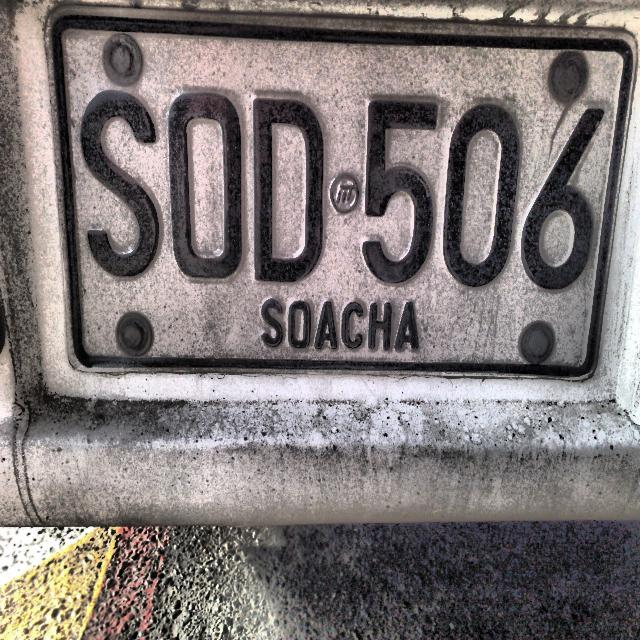plate: (48, 7, 634, 376)
